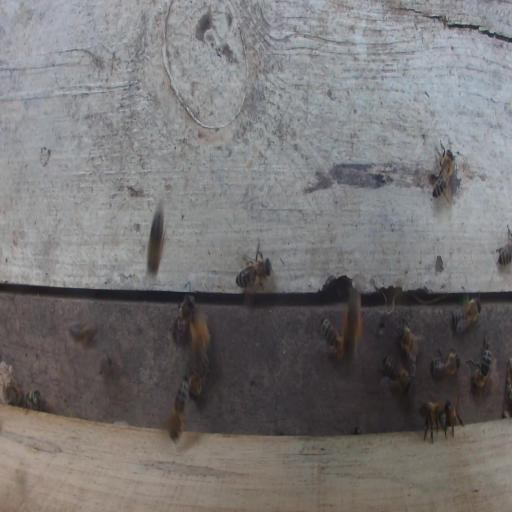nonpollenbee: (235, 242, 274, 307), (388, 310, 423, 379), (427, 137, 454, 204), (465, 333, 492, 390), (167, 374, 189, 443), (378, 355, 412, 397), (418, 401, 448, 445), (449, 296, 483, 334), (172, 293, 196, 344), (316, 318, 343, 360), (188, 352, 210, 403), (147, 209, 164, 274), (428, 348, 462, 378), (445, 391, 465, 440), (496, 223, 511, 266), (22, 389, 42, 417)
pollenbee: (342, 287, 363, 361)
